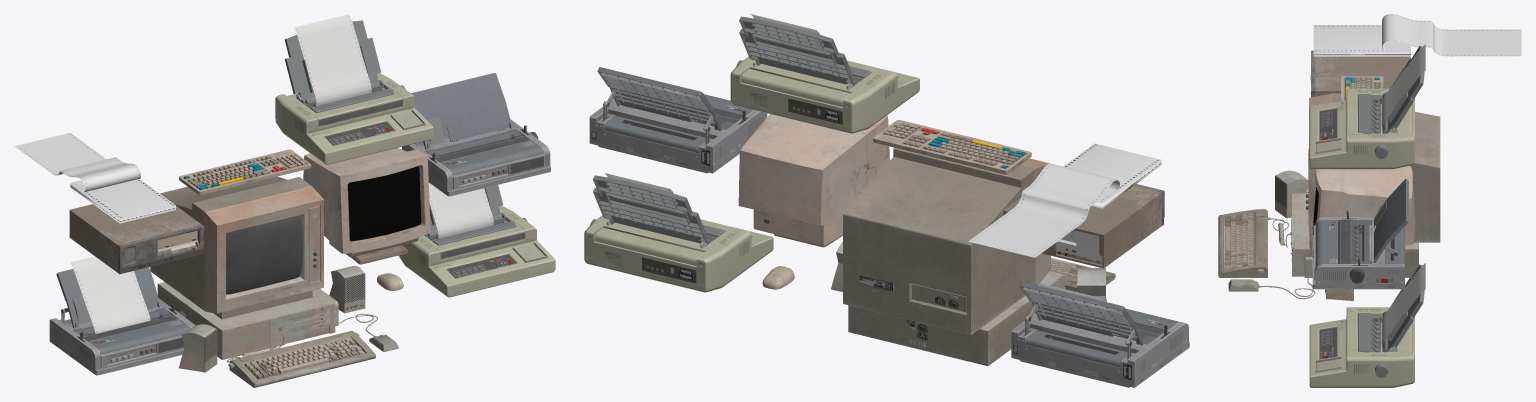
Rendered from Computer.fbx.
3 views of the same model, side by side, from view 1: azimuth 30°, elevation 25°; view 2: azimuth 150°, elevation 25°; view 3: azimuth 270°, elevation 25° (orthographic). The views are drawn at different scales.
Parts seen in each view (by area): view 1: SM_Computer_A.mo, SM_Printer_D.mo, SM_Printer_A.mo, SM_Printer_C.mo, SM_Printer_B.mo, SM_Computer_B_Monitor.mo, SM_Computer_B_CPU.mo, SM_PrinterPaper_A.mo, SM_Computer_B_Keyboard.mo; view 2: SM_Computer_A.mo, SM_Computer_B_Monitor.mo, SM_Printer_D.mo, SM_Printer_B.mo, SM_Printer_A.mo, SM_Printer_C.mo, SM_PrinterPaper_A.mo, SM_Computer_B_CPU.mo, SM_Computer_B_Keyboard.mo, SM_Computer_B_Mouse.mo; view 3: SM_Computer_A.mo, SM_Printer_D.mo, SM_Printer_B.mo, SM_Printer_C.mo, SM_PrinterPaper_A.mo, SM_Computer_B_Monitor.mo, SM_Computer_B_CPU.mo, SM_Computer_B_Keyboard.mo.
Boxes of the visible parts, left/top/right/bottom form: SM_Computer_A.mo: left=150, top=176, right=398, bottom=387; SM_Printer_D.mo: left=275, top=14, right=433, bottom=164; SM_Printer_A.mo: left=49, top=256, right=195, bottom=375; SM_Printer_C.mo: left=402, top=73, right=550, bottom=196; SM_Printer_B.mo: left=398, top=182, right=555, bottom=297; SM_Computer_B_Monitor.mo: left=303, top=148, right=430, bottom=264; SM_Computer_B_CPU.mo: left=69, top=204, right=204, bottom=274; SM_PrinterPaper_A.mo: left=15, top=132, right=175, bottom=223; SM_Computer_B_Keyboard.mo: left=179, top=149, right=311, bottom=194; SM_Computer_A.mo: left=831, top=147, right=1115, bottom=365; SM_Computer_B_Monitor.mo: left=738, top=114, right=889, bottom=247; SM_Printer_D.mo: left=730, top=14, right=919, bottom=133; SM_Printer_B.mo: left=584, top=173, right=773, bottom=292; SM_Printer_A.mo: left=1011, top=281, right=1189, bottom=387; SM_Printer_C.mo: left=589, top=67, right=767, bottom=173; SM_PrinterPaper_A.mo: left=968, top=143, right=1161, bottom=257; SM_Computer_B_CPU.mo: left=1003, top=184, right=1164, bottom=268; SM_Computer_B_Keyboard.mo: left=873, top=120, right=1031, bottom=174; SM_Computer_B_Mouse.mo: left=762, top=266, right=794, bottom=289; SM_Computer_A.mo: left=1218, top=93, right=1440, bottom=300; SM_Printer_D.mo: left=1309, top=44, right=1425, bottom=169; SM_Printer_B.mo: left=1309, top=263, right=1425, bottom=387; SM_Printer_C.mo: left=1312, top=178, right=1408, bottom=289; SM_PrinterPaper_A.mo: left=1313, top=14, right=1521, bottom=56; SM_Computer_B_Monitor.mo: left=1309, top=166, right=1415, bottom=257; SM_Computer_B_CPU.mo: left=1310, top=50, right=1410, bottom=97; SM_Computer_B_Keyboard.mo: left=1341, top=76, right=1383, bottom=100.
Size of the model in its own units: 215 by 113 by 124.
